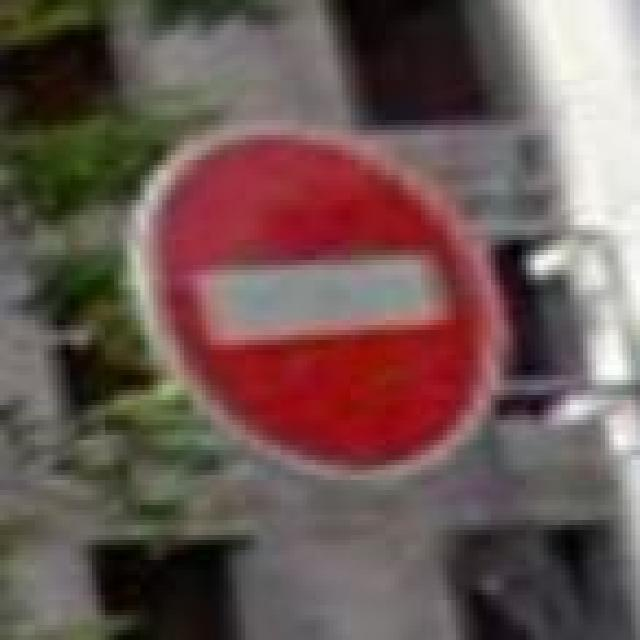Zakaz wjazdu: (132, 120, 508, 495)
